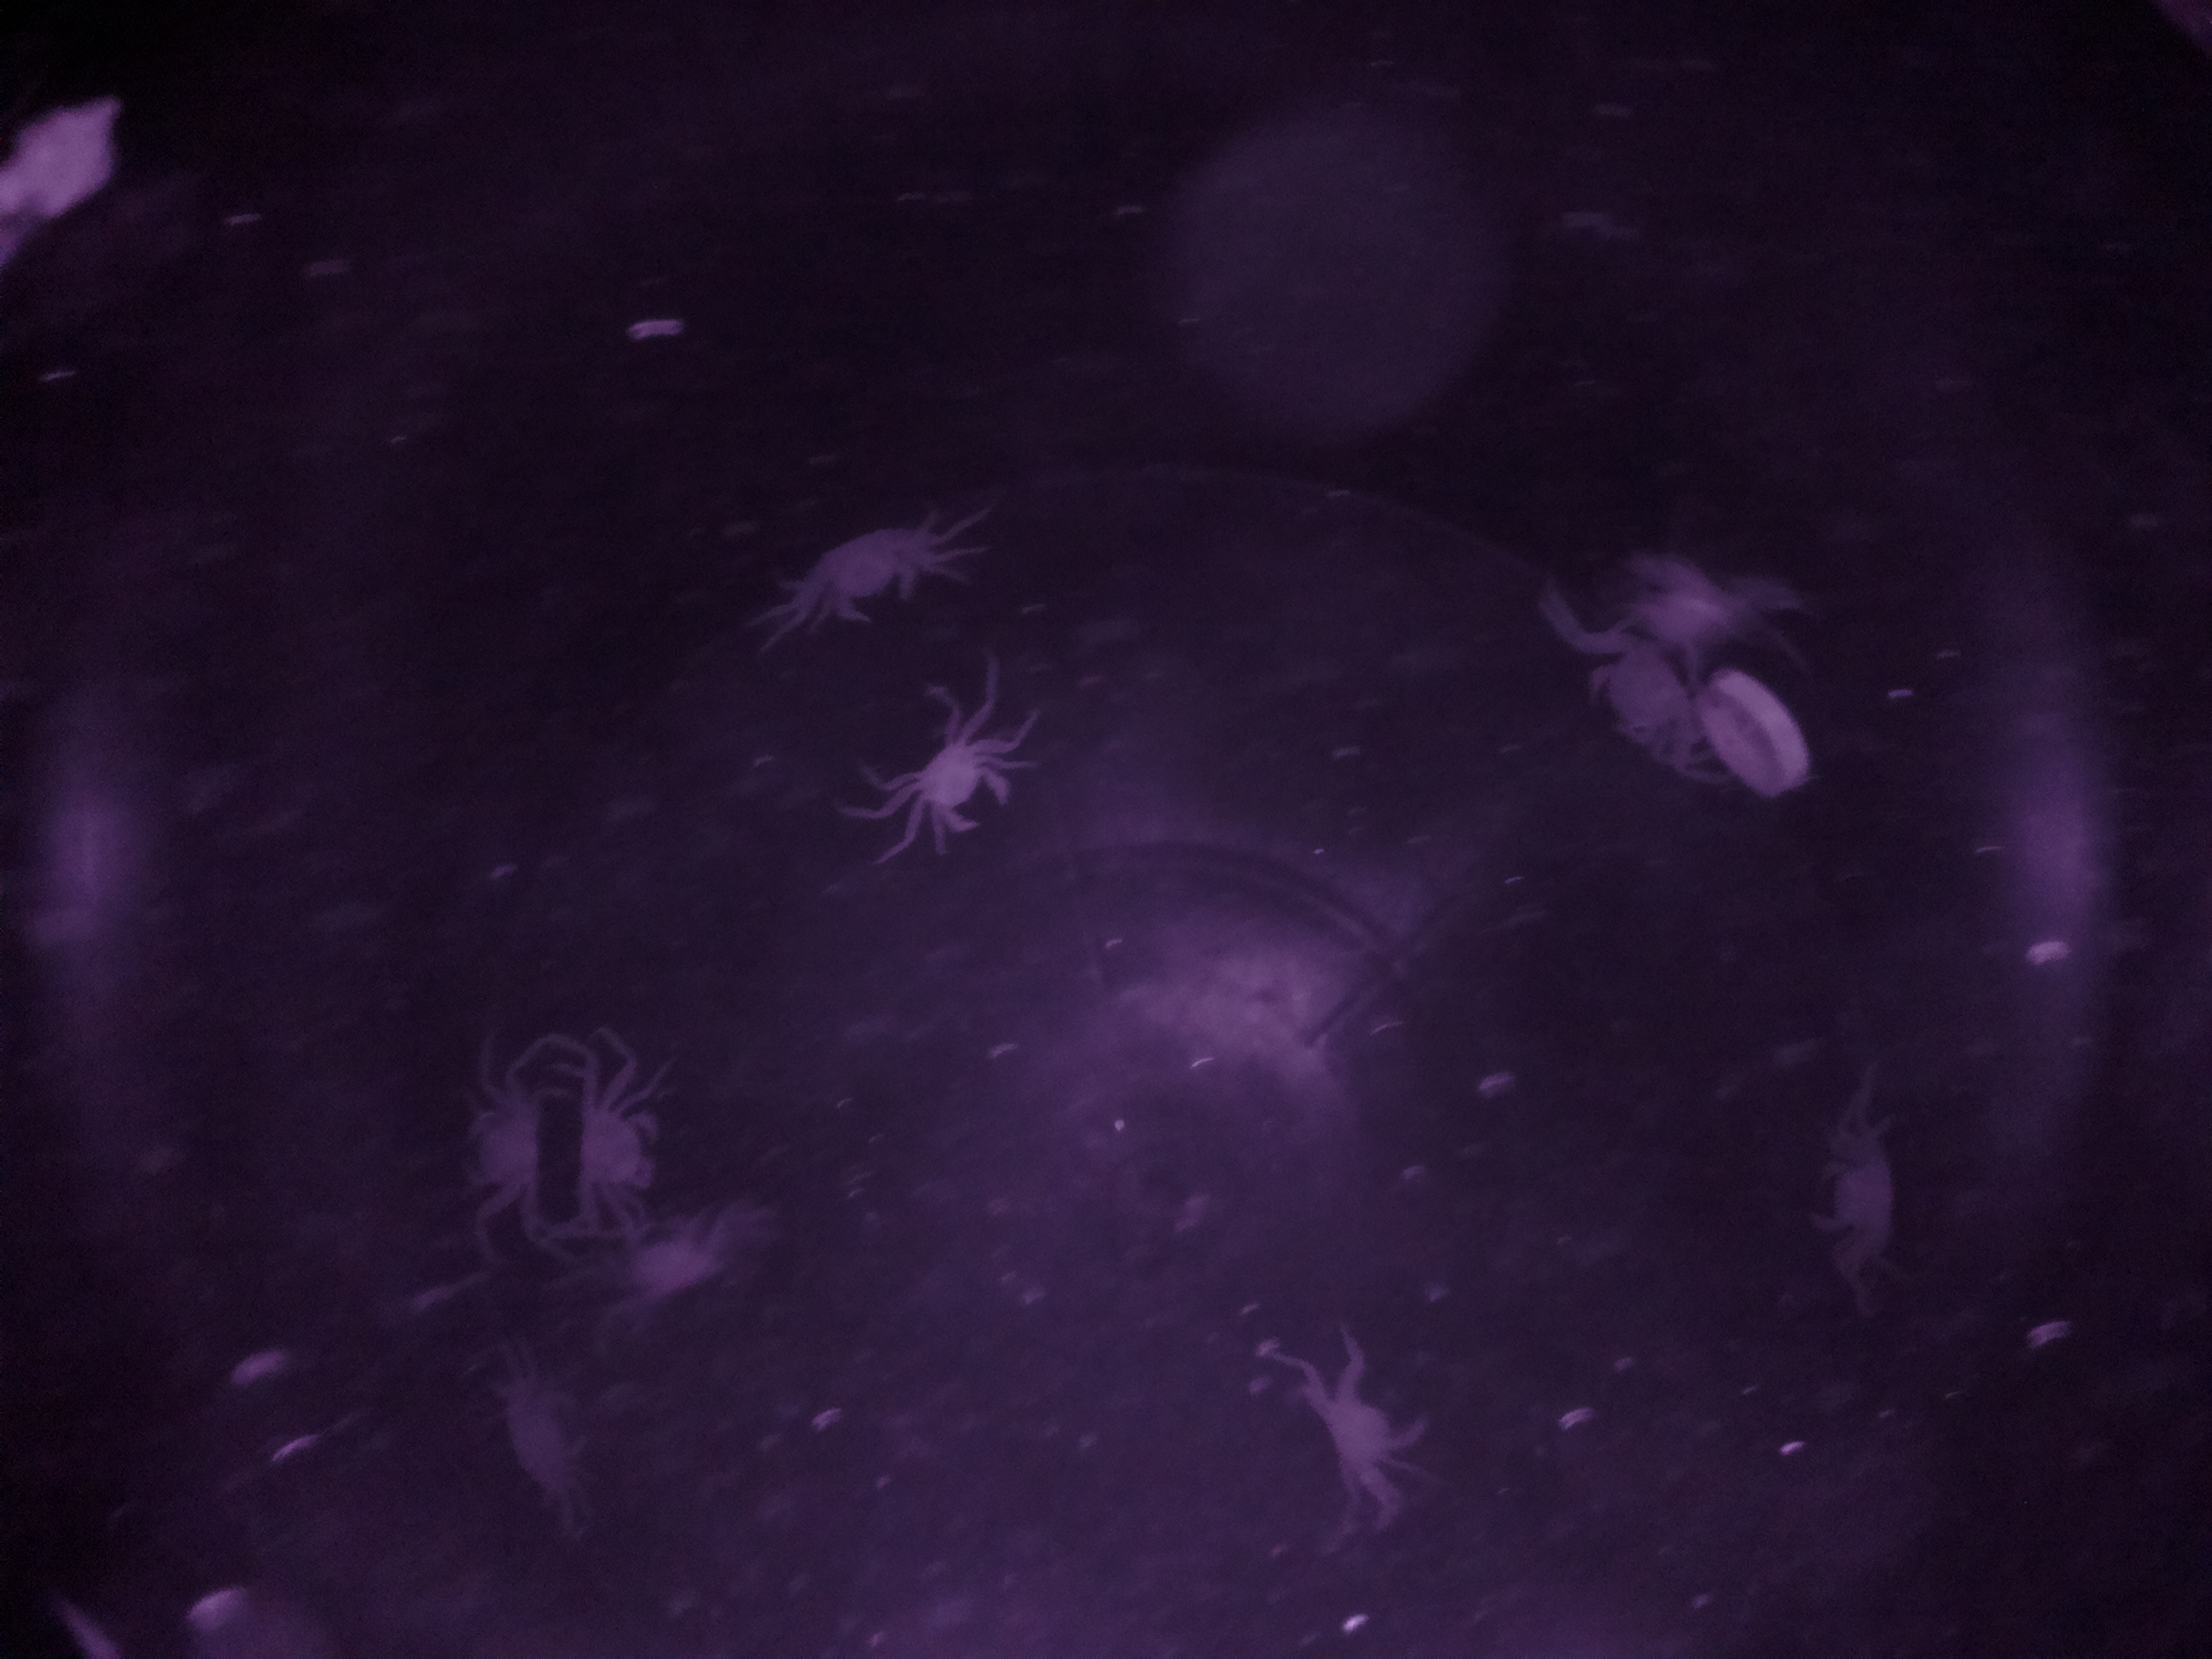Crab: (768, 493, 951, 652), (432, 1033, 550, 1239), (568, 1051, 674, 1244), (885, 713, 1017, 861)
